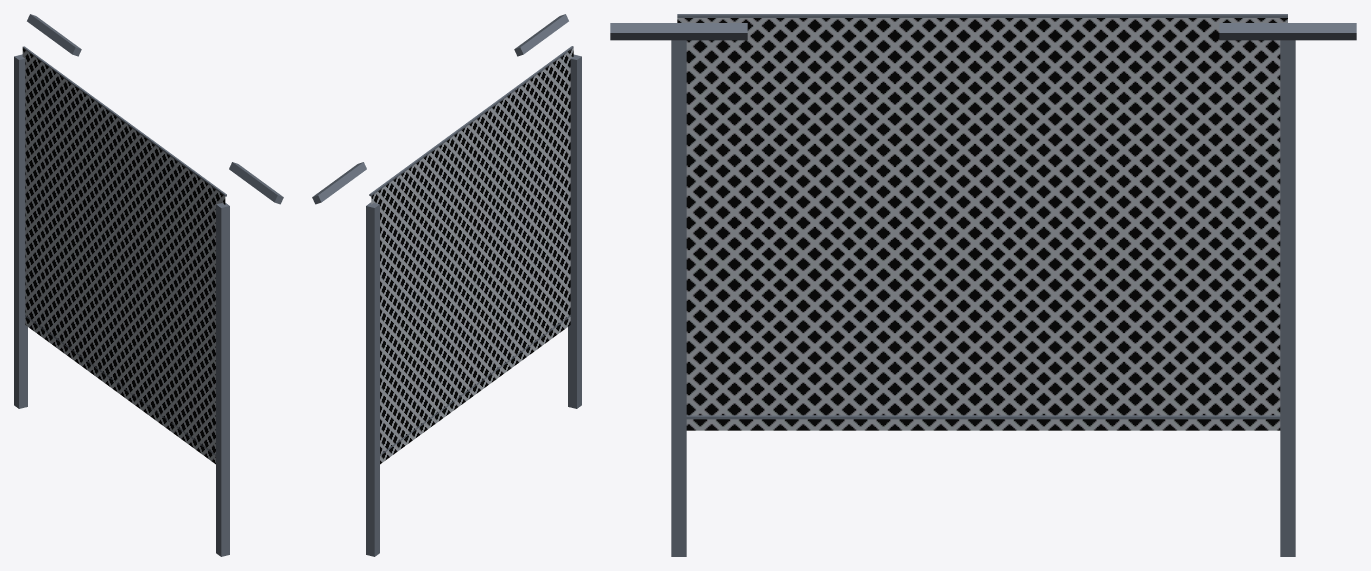
File: catch_fence_4m.glb
3 views of the same model, side by side, from view 1: azimuth 30°, elevation 25°; view 2: azimuth 150°, elevation 25°; view 3: azimuth 270°, elevation 25° (orthographic). The views are drawn at different scales.
Visible parts, largest first — view 1: fence; view 2: fence; view 3: fence.
Boxes of the visible parts, bbox=[...] form: fence: bbox=[14, 14, 283, 556]; fence: bbox=[312, 14, 581, 556]; fence: bbox=[610, 14, 1356, 556].
Size of the model in its own units: 0.4843 by 4 by 4.89.
2 materials, 1 textured.
